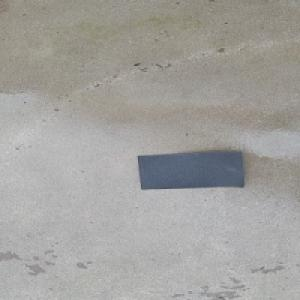PaintChip: (137, 150, 244, 190)
